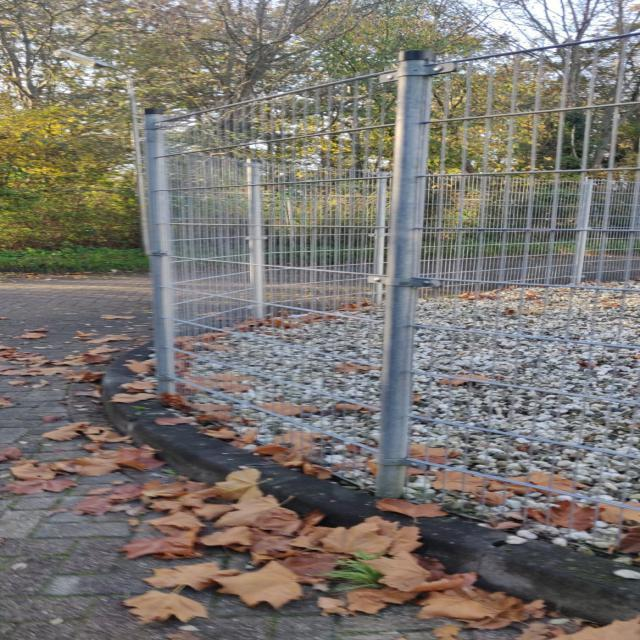fence line: (129, 71, 639, 524)
